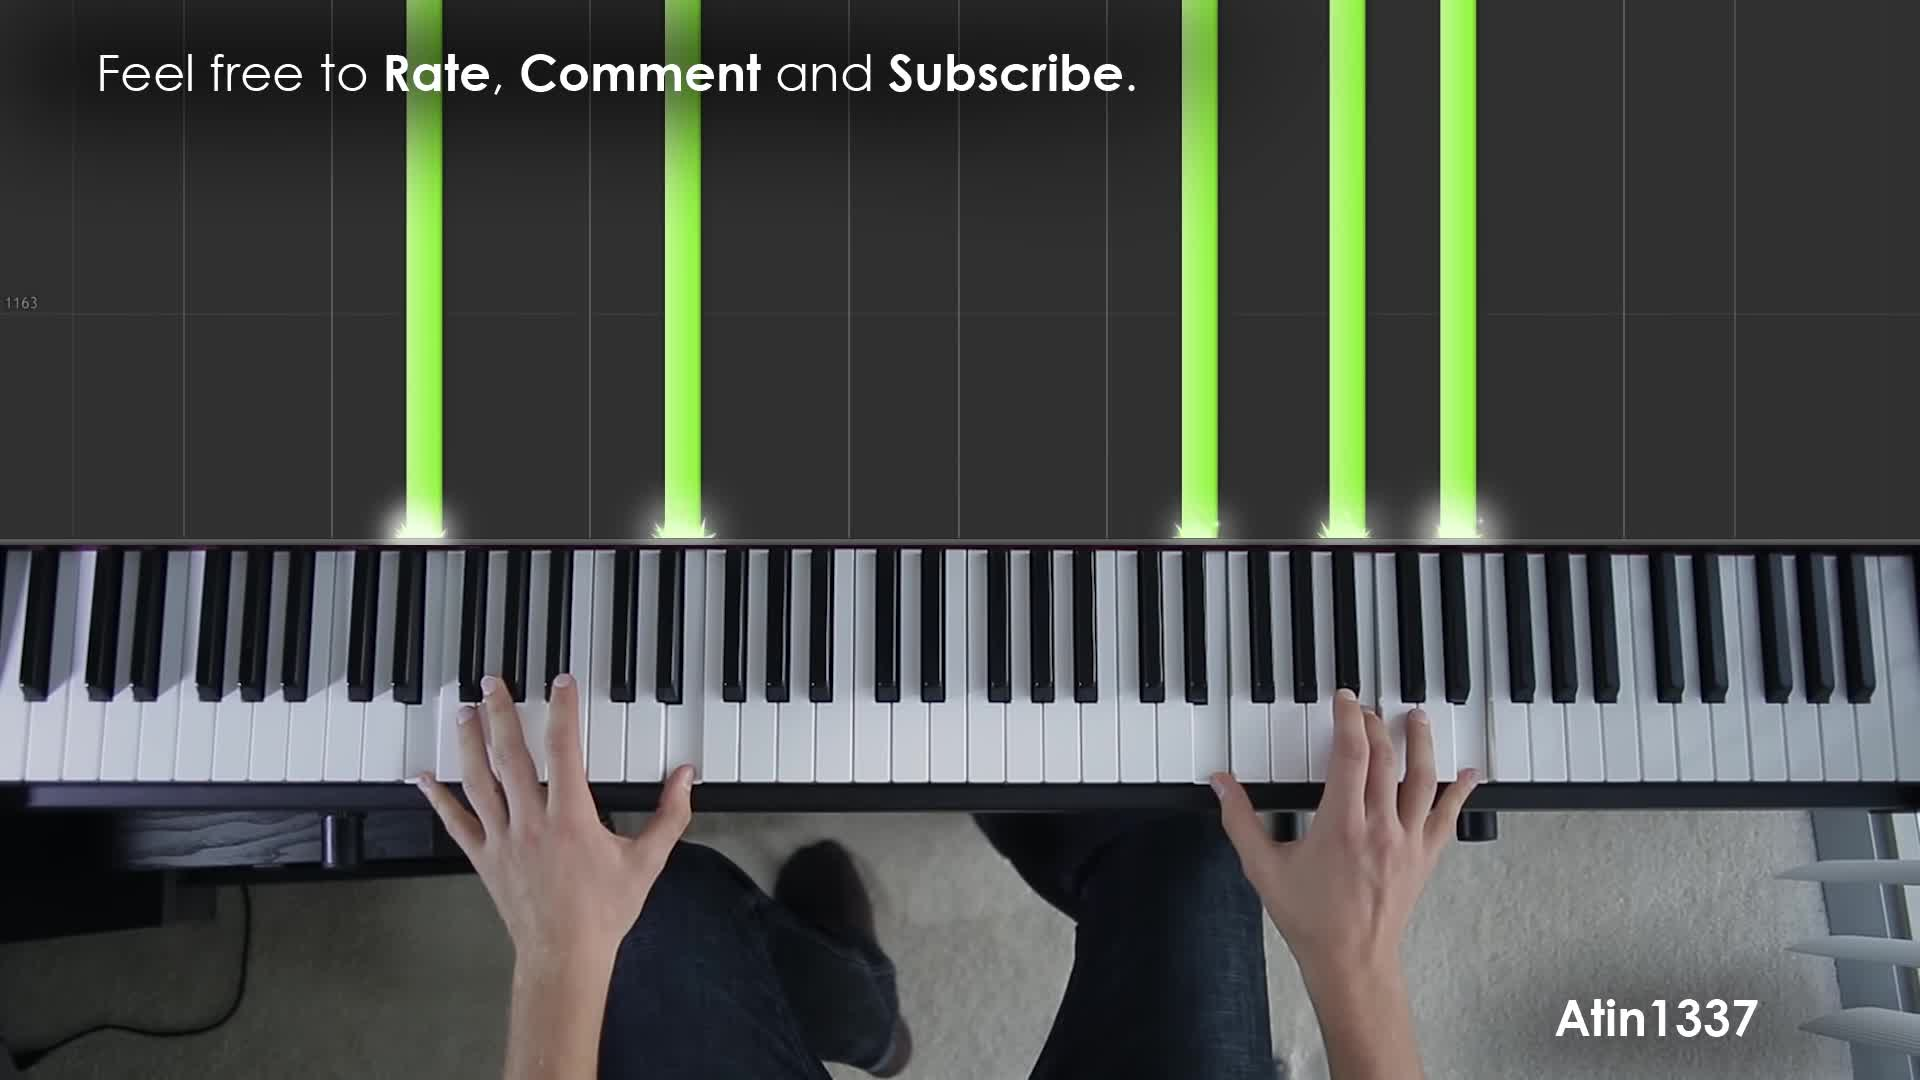left: (415, 671, 695, 923)
right: (1211, 690, 1481, 938)
